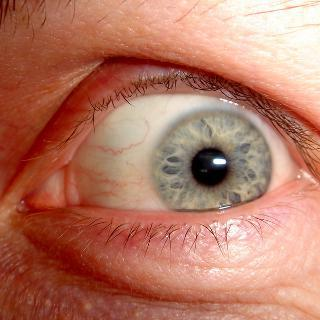pupil: (190, 148, 229, 187)
